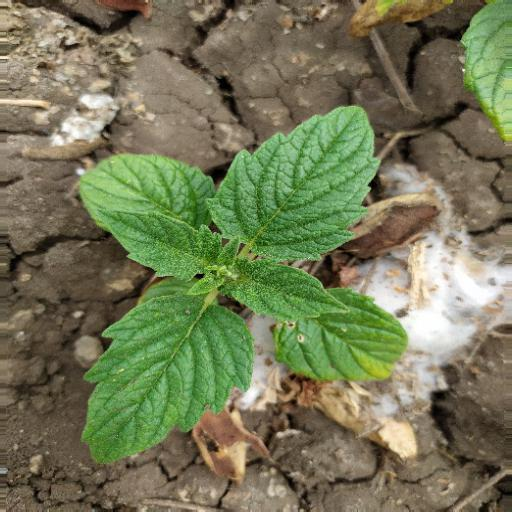crop: (52, 100, 407, 437)
